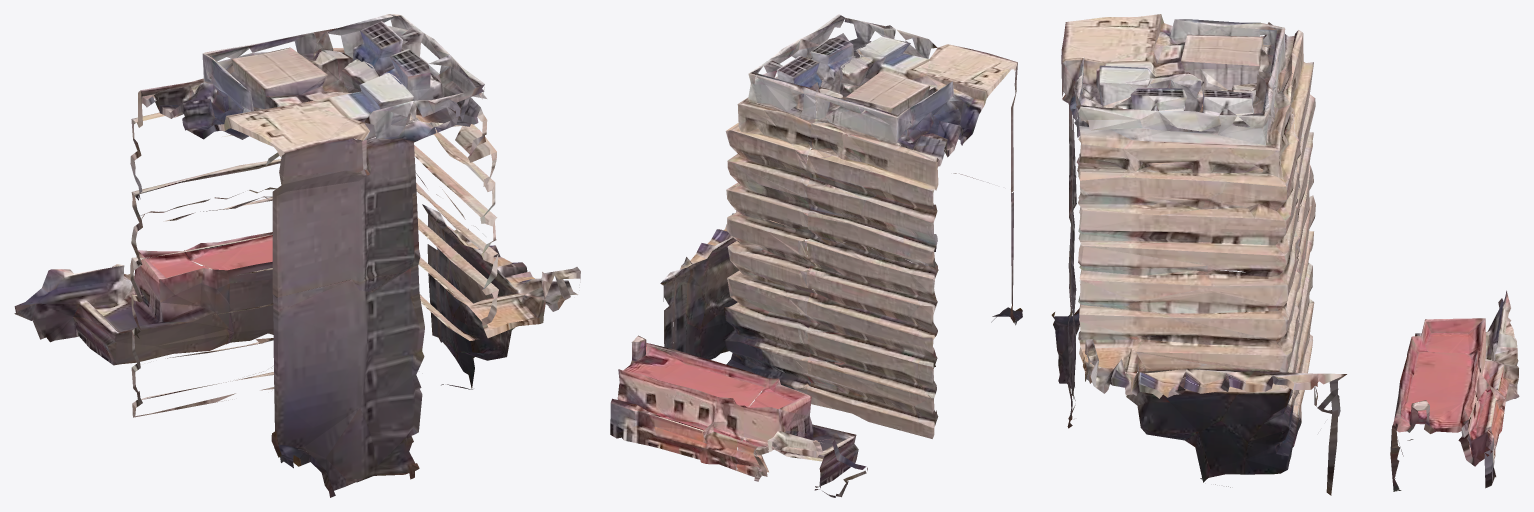
The picture shows the model from 3 angles, left to right: view 1: azimuth 30°, elevation 25°; view 2: azimuth 150°, elevation 25°; view 3: azimuth 270°, elevation 25°; orthographic projection. The views are drawn at different scales.
Parts seen in each view (by area): view 1: Mesh_0; view 2: Mesh_0; view 3: Mesh_0.
Part boxes in pixels (<box>): Mesh_0: <box>14,14,580,497</box>; Mesh_0: <box>610,14,1022,497</box>; Mesh_0: <box>1051,14,1519,495</box>.
Size of the model in its own units: 33.34 by 33.56 by 39.59.
1 material, 1 textured.
